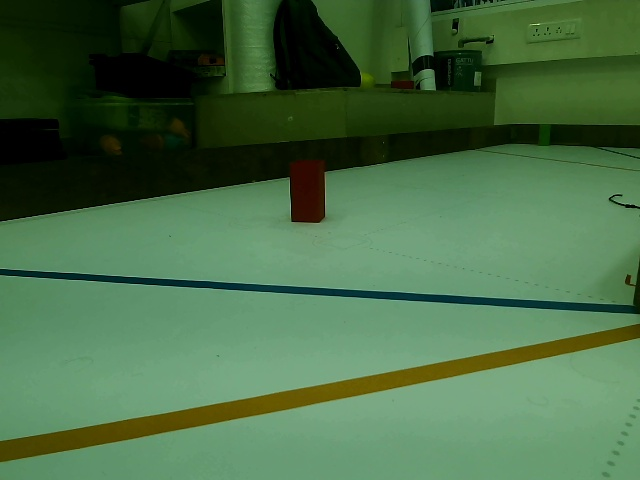red: (289, 162, 325, 225)
